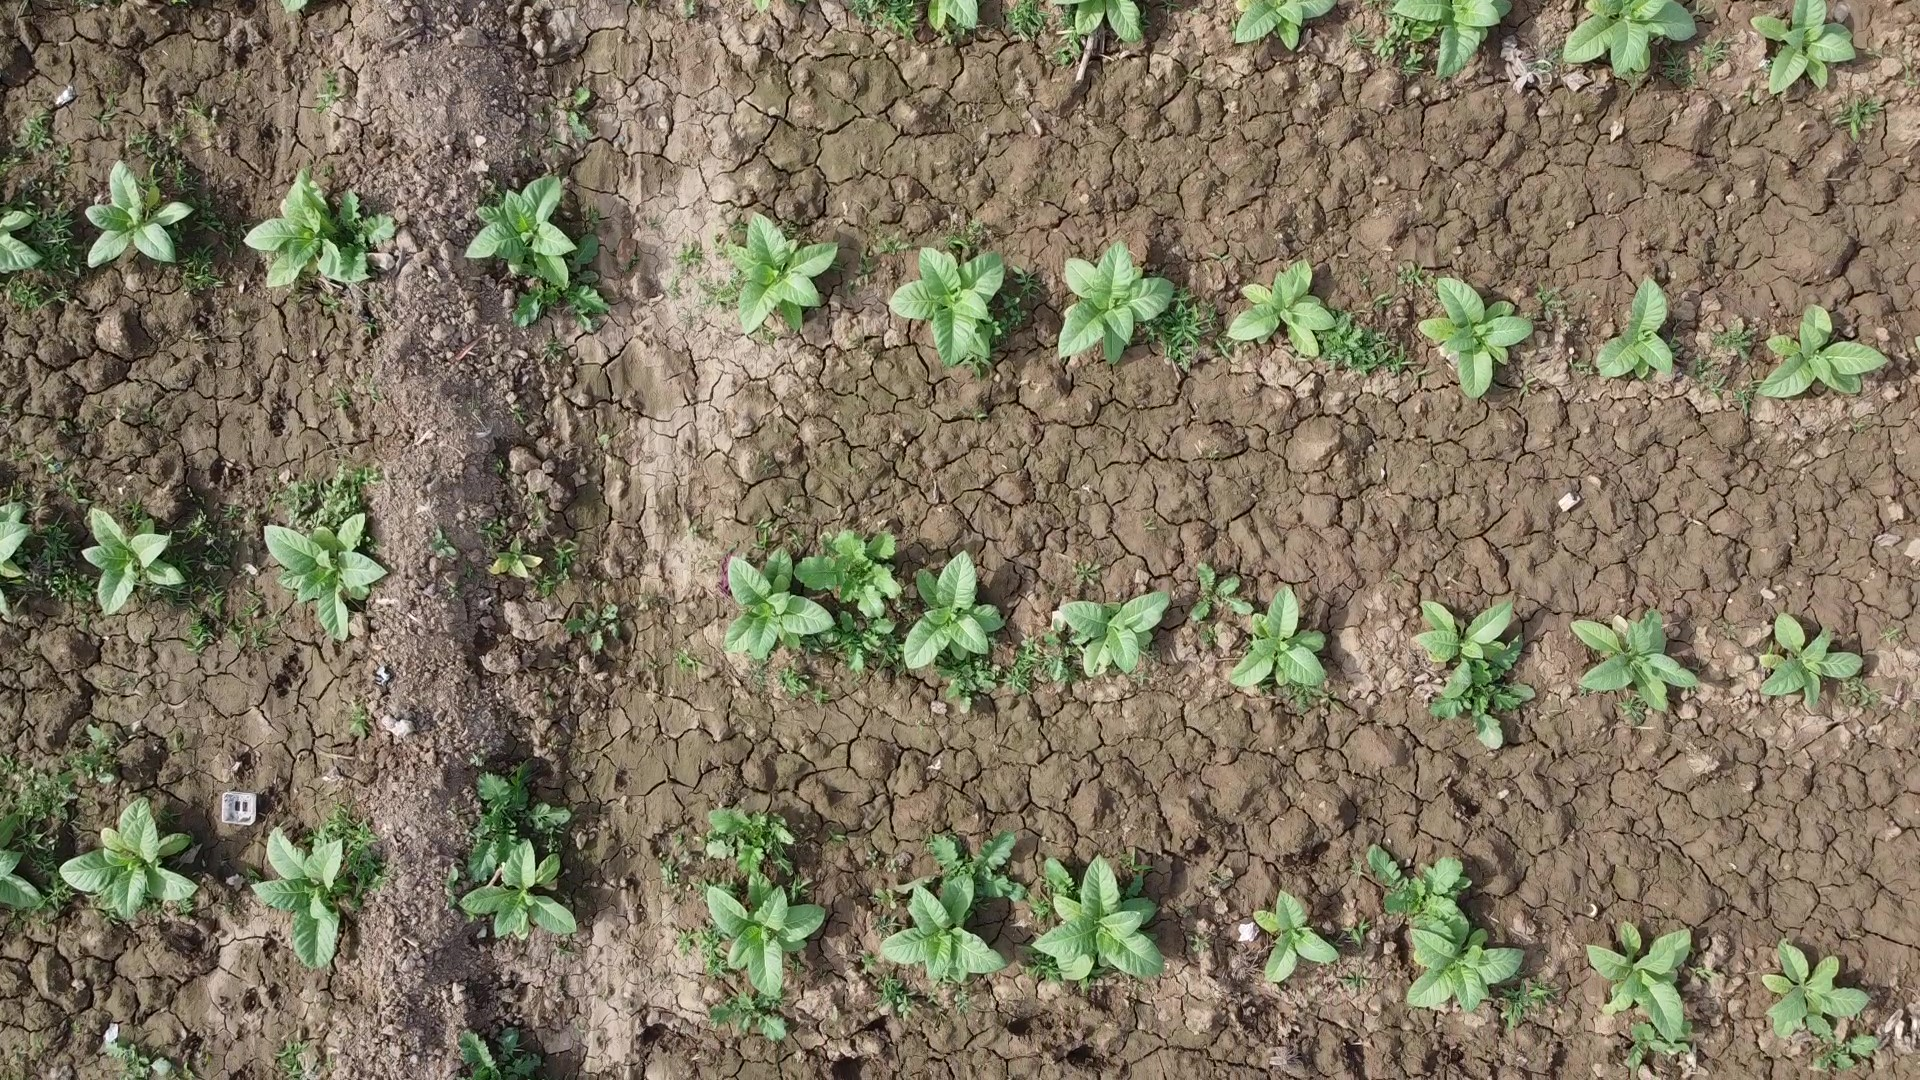weed: (260, 170, 392, 273), (1057, 874, 1167, 997), (1253, 891, 1373, 1001), (1759, 938, 1864, 1042), (1046, 241, 1164, 329), (278, 532, 398, 618), (271, 850, 383, 941), (730, 230, 839, 323), (103, 146, 185, 265), (1408, 930, 1513, 1022), (1761, 601, 1849, 708), (1227, 598, 1332, 687), (1604, 923, 1698, 1022), (478, 857, 581, 947), (1597, 605, 1683, 704), (62, 527, 181, 598), (715, 893, 809, 982), (1769, 303, 1860, 394), (917, 239, 1007, 331), (1449, 280, 1522, 387), (1063, 577, 1154, 661), (898, 889, 986, 975), (90, 816, 172, 908), (489, 174, 560, 271), (1612, 299, 1692, 385), (904, 566, 992, 644), (1233, 273, 1324, 342), (728, 549, 801, 631), (1416, 605, 1511, 667), (1393, 6, 1509, 56), (1589, 0, 1683, 60), (1248, 0, 1332, 54), (1789, 13, 1838, 90), (1057, 4, 1156, 41), (0, 816, 32, 917), (0, 209, 30, 288), (904, 0, 982, 26), (4, 489, 15, 575)
